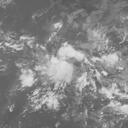cyclone: (18, 27, 122, 101)
